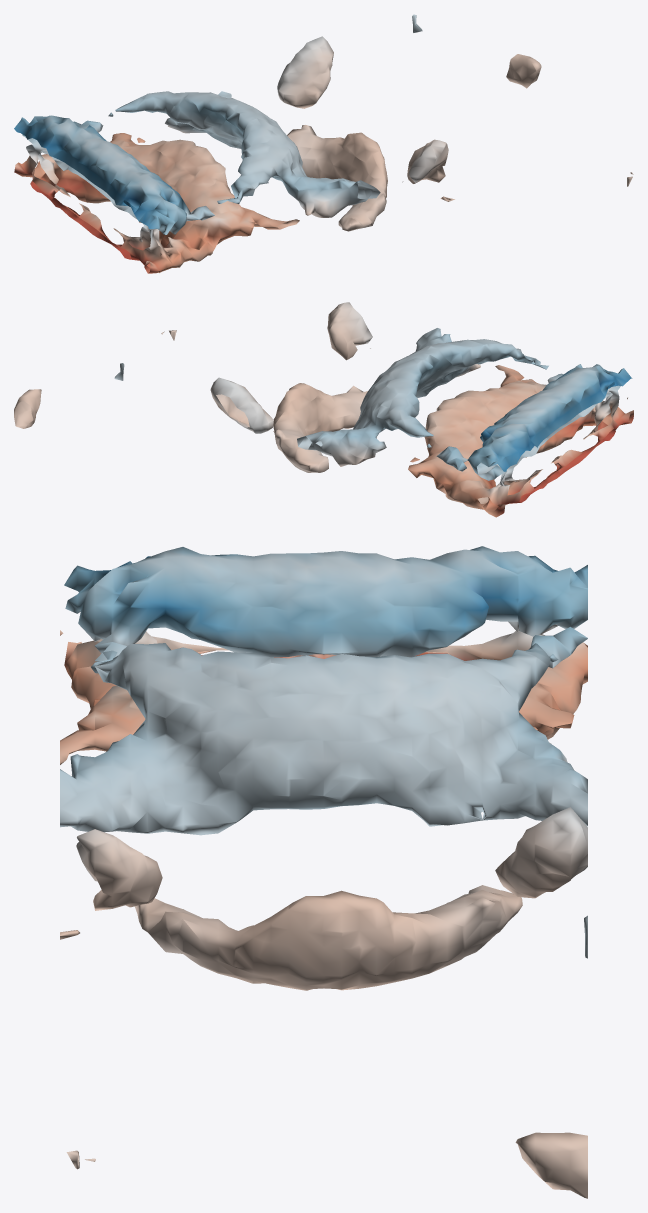
The picture shows the model from 3 angles, top to bottom: view 1: azimuth 30°, elevation 25°; view 2: azimuth 150°, elevation 25°; view 3: azimuth 270°, elevation 25°; orthographic projection. The views are drawn at different scales.
Bounding box in the file's own units: 5.39 × 1.18 × 2.5.
